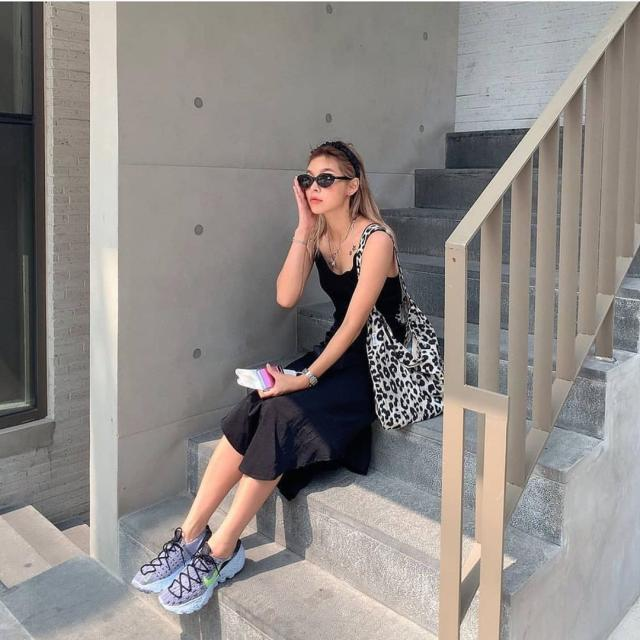ecobag: (347, 215, 455, 431)
